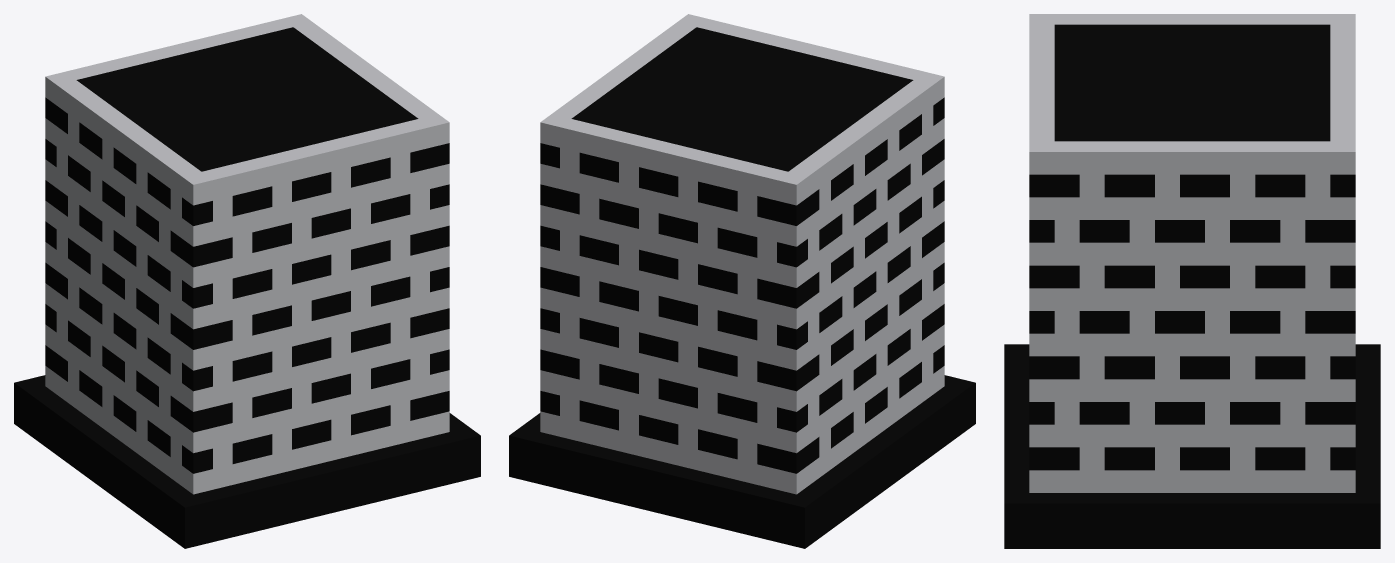
File: dungeon_d_b_inner_wall_solo.obj
The picture shows the model from 3 angles, left to right: view 1: azimuth 30°, elevation 25°; view 2: azimuth 150°, elevation 25°; view 3: azimuth 270°, elevation 25°; orthographic projection. The views are drawn at different scales.
Bounding box in the file's own units: 1.5 × 1.7 × 1.5.
1 material, 1 textured.
